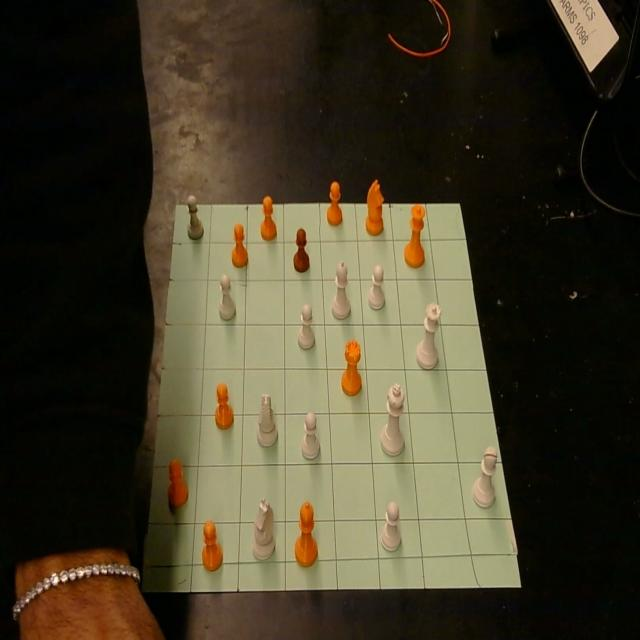orange_bishop: (295, 502, 318, 567), (341, 339, 362, 396)
orange_knight: (365, 179, 385, 236)
orange_pawn: (202, 520, 223, 571), (168, 458, 188, 508), (214, 382, 233, 430), (260, 194, 277, 240), (293, 229, 310, 273), (232, 223, 248, 267), (327, 180, 342, 226)
orange_queen: (405, 203, 426, 268)
white_bishop: (331, 261, 350, 318)
white_king: (380, 382, 406, 455)
white_knight: (252, 498, 275, 560), (257, 391, 278, 447)
white_pawn: (472, 447, 497, 507), (380, 500, 402, 552), (301, 410, 320, 460), (297, 303, 315, 349), (368, 264, 385, 310), (186, 195, 203, 241), (219, 273, 235, 320)
white_queen: (416, 302, 441, 369)
